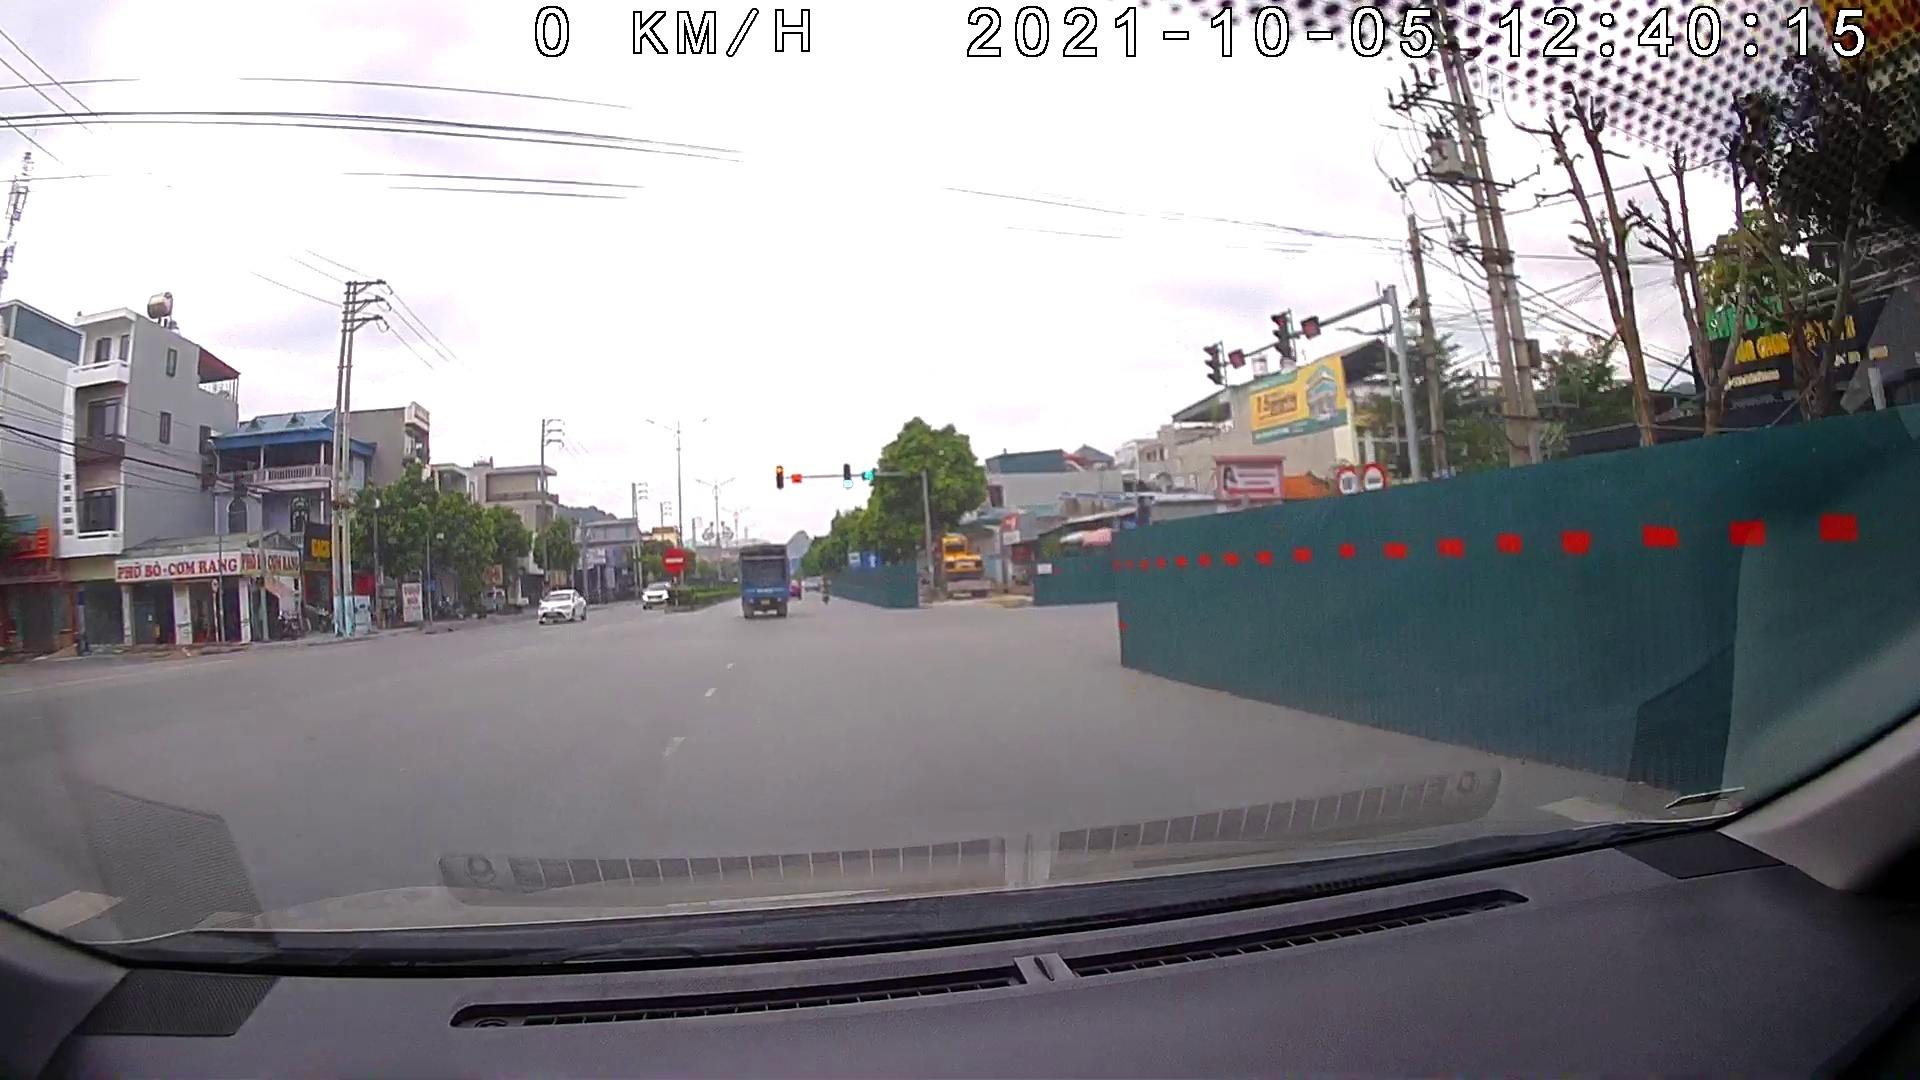Bien khac: (1335, 458, 1356, 500), (1364, 462, 1385, 491), (862, 551, 882, 564), (847, 545, 857, 564)
Cam di nguoc chieu: (663, 549, 684, 571)
